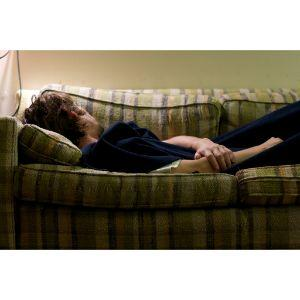sleep: (19, 91, 298, 177)
